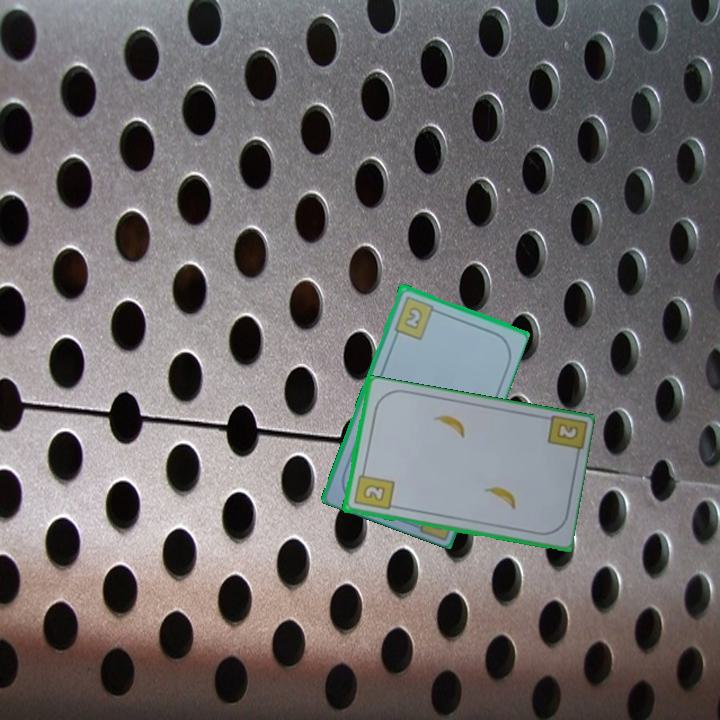2b: (390, 292, 442, 342), (350, 466, 396, 513), (553, 420, 579, 442)
